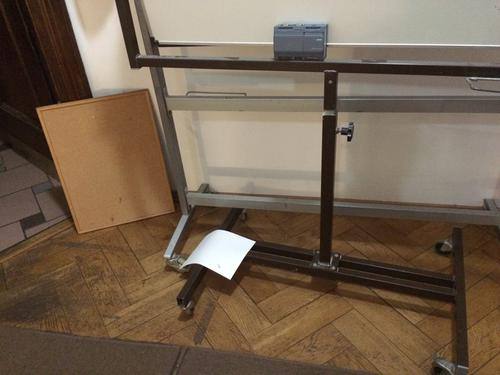iot2000: (272, 22, 328, 62)
